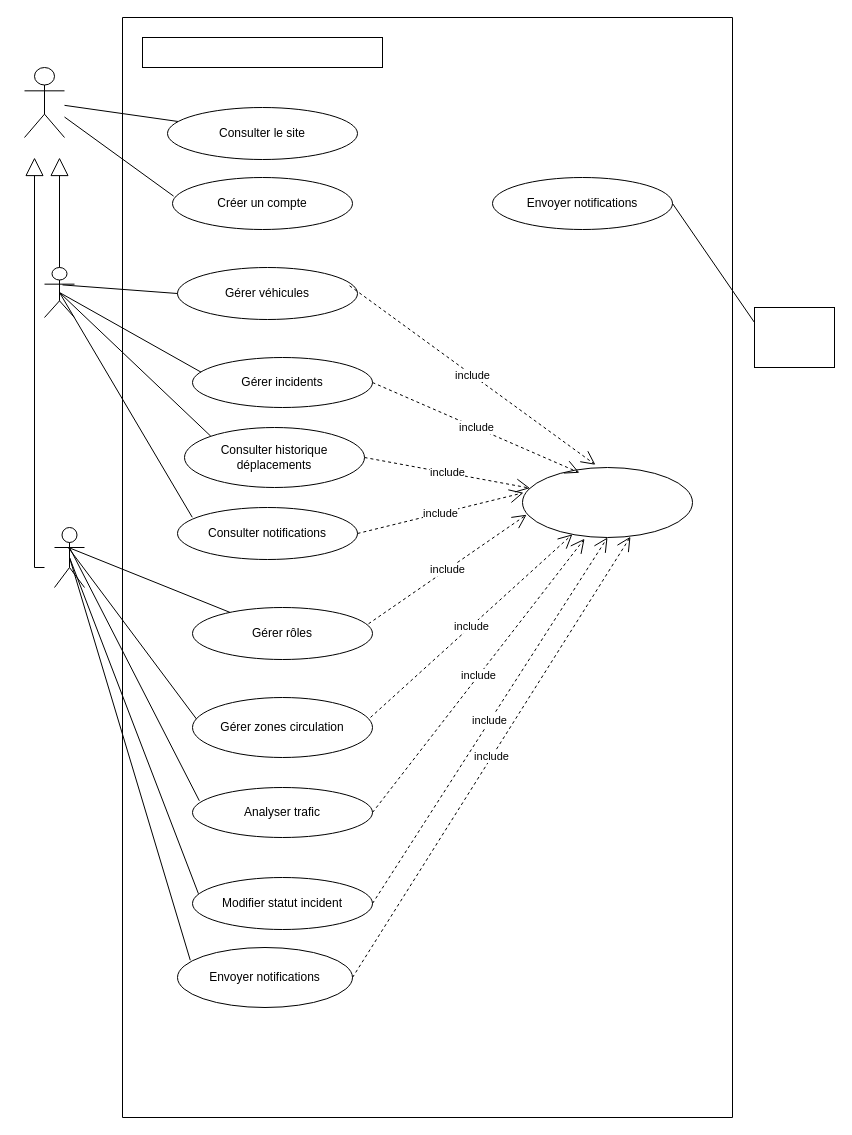
The diagram is 852 pixels wide and 1135 high, and some of its shapes have lost their labels. Here are the shapes that lost their labels. From the top down, the box of each, then its label:
(142, 36, 382, 68): Système Gestion Trafic Urbain
(24, 66, 64, 138): visiteur
(44, 266, 74, 318): Operator
(754, 306, 834, 368): Système GPS simulé
(522, 466, 692, 538): s'authentifier
(54, 526, 84, 588): Admin
